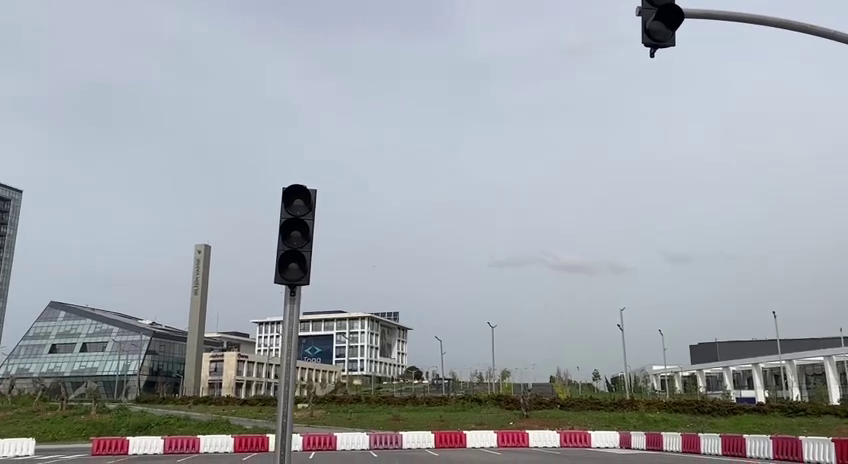trafficLight: (271, 181, 321, 294), (634, 1, 686, 59)
